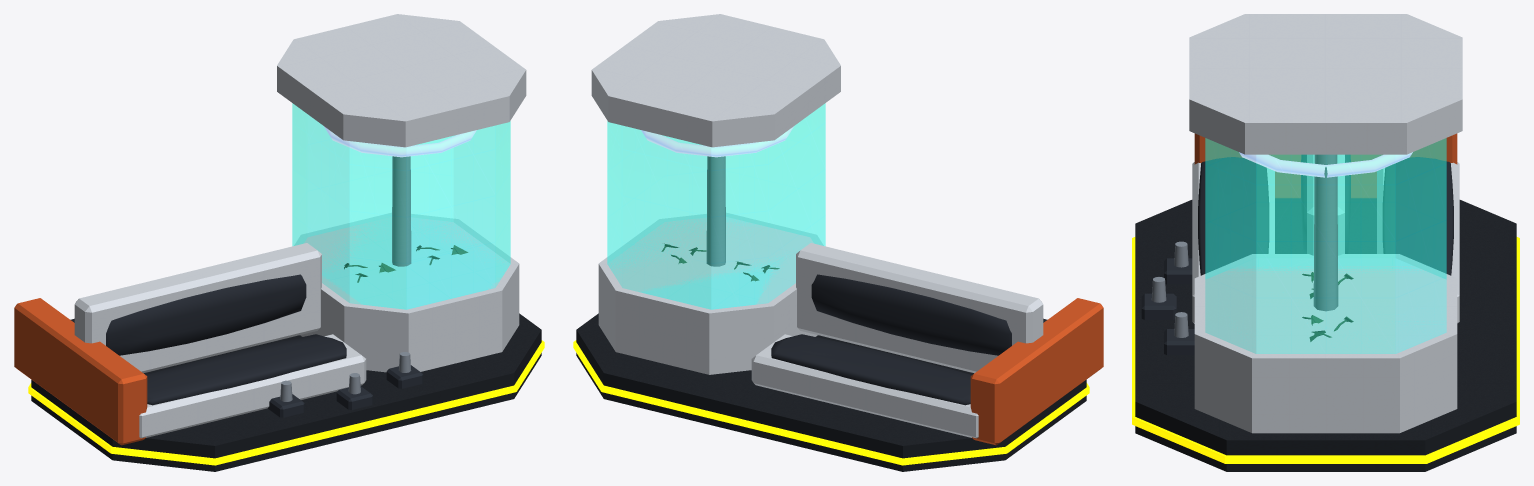
Rendered from prop_04_r1_02.glb.
3 renders of one model, left to right at view 1: azimuth 30°, elevation 25°; view 2: azimuth 150°, elevation 25°; view 3: azimuth 270°, elevation 25°, orthographic. The views are drawn at different scales.
Visible parts, largest first — view 1: Prop04_C02_aero_white, Prop04_C02_glass_emerald, Prop04_C02_gunmetal, Prop04_C02_pad_charcoal, Prop04_C02_accent_orange, Prop04_C02_led_amber, Prop04_C02_steel_machined, Prop04_C02_carbon_slate, Prop04_C02_led_uv; view 2: Prop04_C02_aero_white, Prop04_C02_glass_emerald, Prop04_C02_gunmetal, Prop04_C02_pad_charcoal, Prop04_C02_accent_orange, Prop04_C02_led_amber, Prop04_C02_steel_machined, Prop04_C02_led_uv; view 3: Prop04_C02_aero_white, Prop04_C02_glass_emerald, Prop04_C02_gunmetal, Prop04_C02_pad_charcoal, Prop04_C02_led_amber, Prop04_C02_steel_machined, Prop04_C02_accent_orange, Prop04_C02_carbon_slate, Prop04_C02_led_uv, Prop04_C02_foliage.
Boxes of the visible parts, x1,y1,x2,y2 form: Prop04_C02_aero_white: (74, 14, 526, 438); Prop04_C02_glass_emerald: (292, 103, 510, 309); Prop04_C02_gunmetal: (31, 313, 541, 471); Prop04_C02_pad_charcoal: (70, 274, 346, 405); Prop04_C02_accent_orange: (14, 298, 147, 445); Prop04_C02_led_amber: (28, 340, 544, 465); Prop04_C02_steel_machined: (280, 156, 411, 401); Prop04_C02_carbon_slate: (268, 365, 423, 417); Prop04_C02_led_uv: (324, 126, 476, 157); Prop04_C02_aero_white: (591, 14, 1043, 438); Prop04_C02_glass_emerald: (607, 103, 825, 309); Prop04_C02_gunmetal: (576, 313, 1086, 471); Prop04_C02_pad_charcoal: (771, 274, 1047, 405); Prop04_C02_accent_orange: (970, 298, 1103, 445); Prop04_C02_led_amber: (573, 340, 1089, 465); Prop04_C02_steel_machined: (706, 156, 725, 266); Prop04_C02_led_uv: (641, 126, 793, 157); Prop04_C02_aero_white: (1189, 14, 1462, 433); Prop04_C02_glass_emerald: (1205, 138, 1446, 353); Prop04_C02_gunmetal: (1135, 198, 1516, 471); Prop04_C02_pad_charcoal: (1198, 154, 1453, 275); Prop04_C02_led_amber: (1132, 237, 1519, 463); Prop04_C02_steel_machined: (1151, 154, 1338, 337); Prop04_C02_accent_orange: (1194, 133, 1457, 198); Prop04_C02_carbon_slate: (1141, 258, 1194, 355); Prop04_C02_led_uv: (1239, 152, 1412, 177); Prop04_C02_foliage: (1302, 272, 1353, 341).
Bounding box in the file's own units: 3.87 × 2.39 × 2.44.
Materials: 10 (10 with a texture image).
